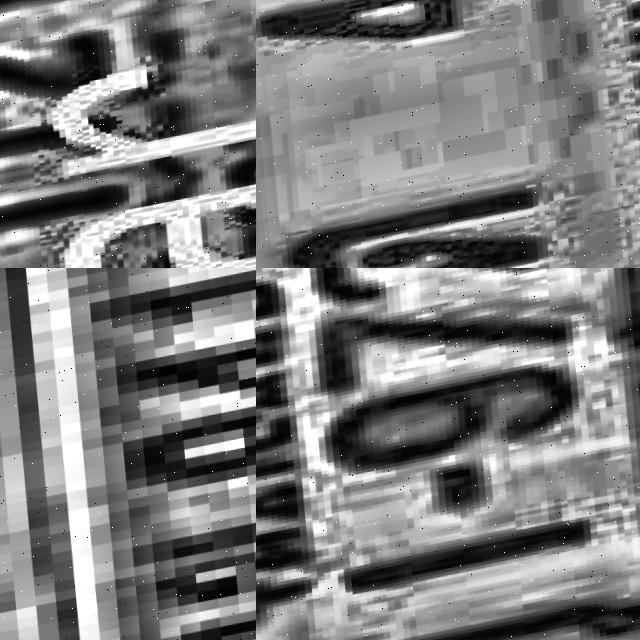license-plate: (256, 268, 640, 640), (256, 0, 640, 268), (23, 268, 256, 640), (0, 0, 256, 268)
